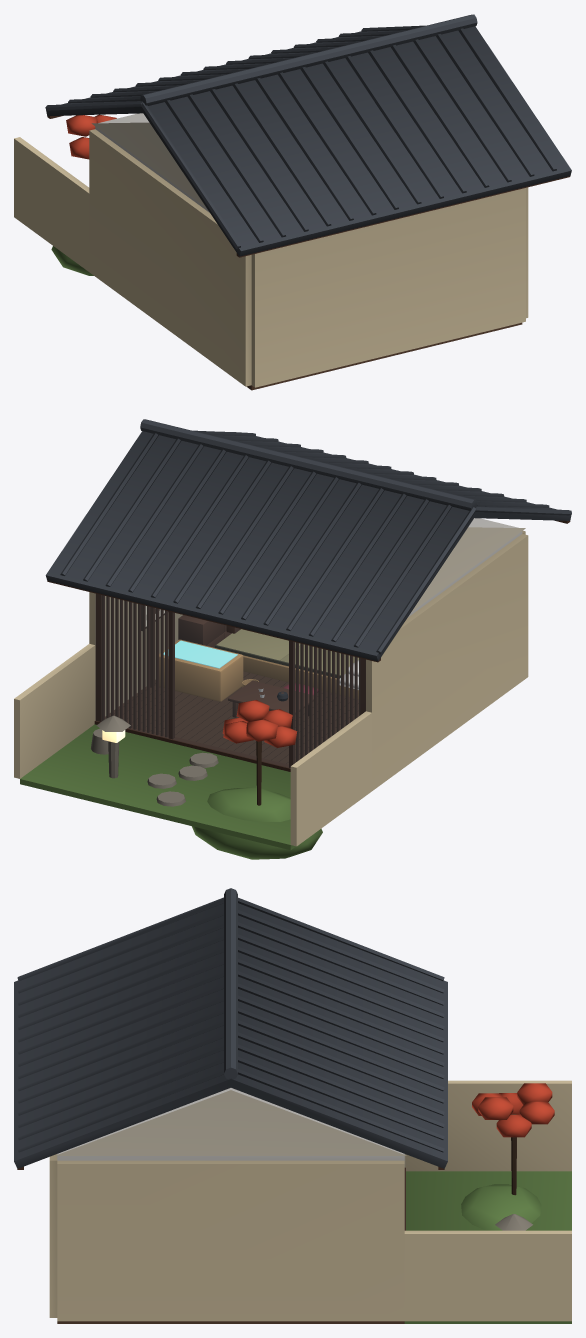
File: ky-kura.glb
3 views of the same model, one above another, from view 1: azimuth 30°, elevation 25°; view 2: azimuth 150°, elevation 25°; view 3: azimuth 270°, elevation 25° (orthographic). The views are drawn at different scales.
Visible parts, largest first — view 1: Room_rooftile, Room_earth, Room_plaster, Room_maple, Room_floor, Room_ceiling, Room_hinokiDark; view 2: Room_rooftile, Room_earth, Room_glass, Room_hinokiDark, Room_moss, Room_floor, Room_hinoki, Room_rock, Room_plaster, Room_maple, Room_tatami, Room_water (+2 smaller); view 3: Room_rooftile, Room_earth, Room_plaster, Room_moss, Room_maple, Room_ceiling, Room_floor.
Part boxes in pixels (x1,y1,x2,y2): Room_rooftile: (45, 14, 571, 256); Room_earth: (14, 129, 528, 387); Room_plaster: (91, 122, 205, 206); Room_maple: (66, 114, 116, 159); Room_floor: (246, 322, 522, 390); Room_ceiling: (95, 113, 209, 212); Room_hinokiDark: (47, 115, 570, 257); Room_rooftile: (45, 419, 571, 661); Room_earth: (14, 530, 528, 846); Room_glass: (101, 595, 359, 767); Room_hinokiDark: (47, 520, 570, 771); Room_moss: (20, 724, 322, 859); Room_floor: (105, 671, 358, 764); Room_hinoki: (159, 639, 358, 701); Room_rock: (91, 715, 218, 806); Room_plaster: (411, 527, 525, 611); Room_maple: (222, 700, 297, 747); Room_tatami: (216, 629, 358, 675); Room_water: (163, 640, 237, 668); Room_rooftile: (14, 888, 447, 1168); Room_earth: (49, 1080, 571, 1321); Room_plaster: (55, 1090, 406, 1155); Room_moss: (404, 1171, 571, 1323); Room_maple: (472, 1083, 554, 1137); Room_ceiling: (57, 1088, 404, 1160); Room_floor: (57, 1321, 404, 1323).
Bounding box in the file's own units: 6.65 × 5.47 × 8.67.
